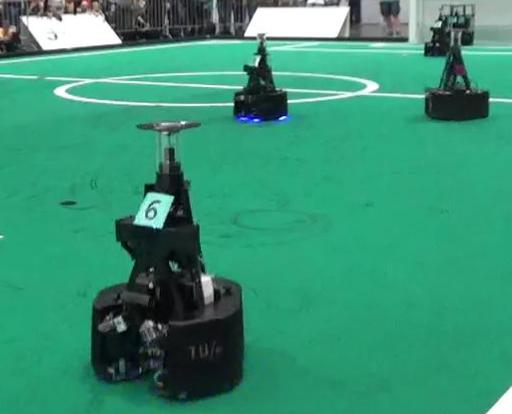robot: (88, 116, 249, 406), (424, 21, 494, 123), (230, 30, 291, 122)
